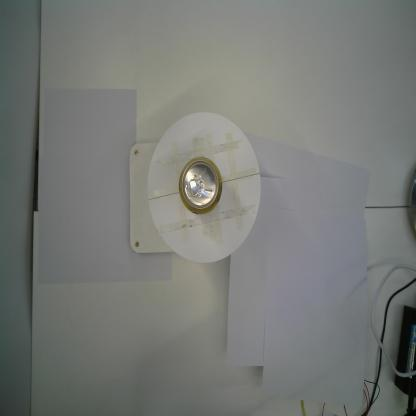Alcohol: (178, 155, 223, 216)
